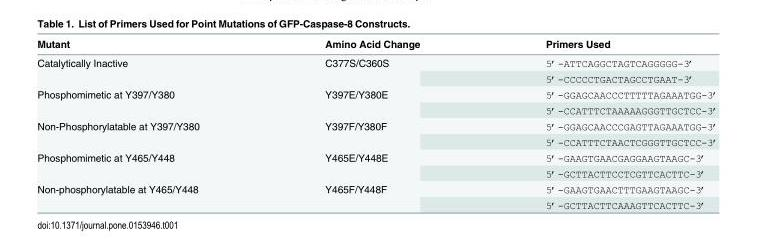table: (36, 37, 718, 210)
table column: (482, 37, 718, 210), (36, 37, 261, 210), (261, 37, 482, 210)
table column header: (36, 37, 718, 52)
table row: (36, 52, 718, 71), (36, 117, 718, 134), (36, 149, 718, 166), (36, 86, 718, 102), (36, 181, 718, 197), (36, 37, 718, 52), (36, 71, 718, 86), (36, 102, 718, 117), (36, 134, 718, 149), (36, 166, 718, 181), (36, 197, 718, 210)
table spanning cell: (36, 52, 261, 86), (261, 52, 482, 86), (36, 117, 261, 149), (36, 149, 261, 181), (261, 117, 482, 149), (261, 149, 482, 181), (36, 86, 261, 117), (261, 86, 482, 117), (36, 181, 261, 210), (261, 181, 482, 210)
